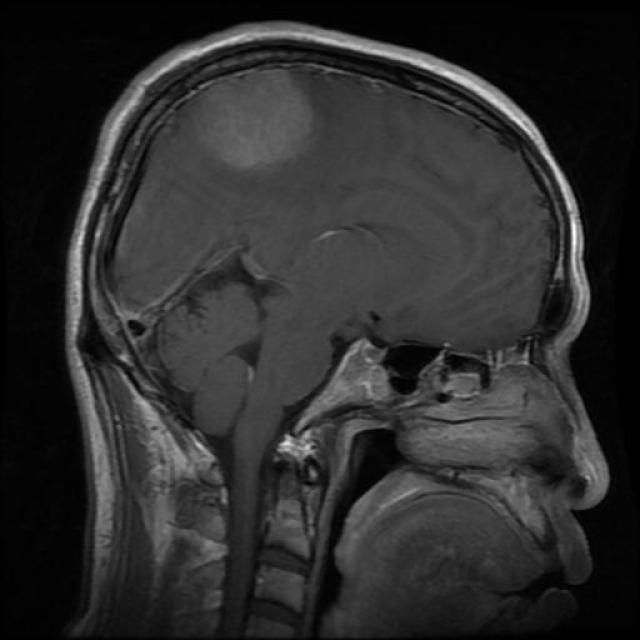meningioma: (208, 74, 315, 172)
